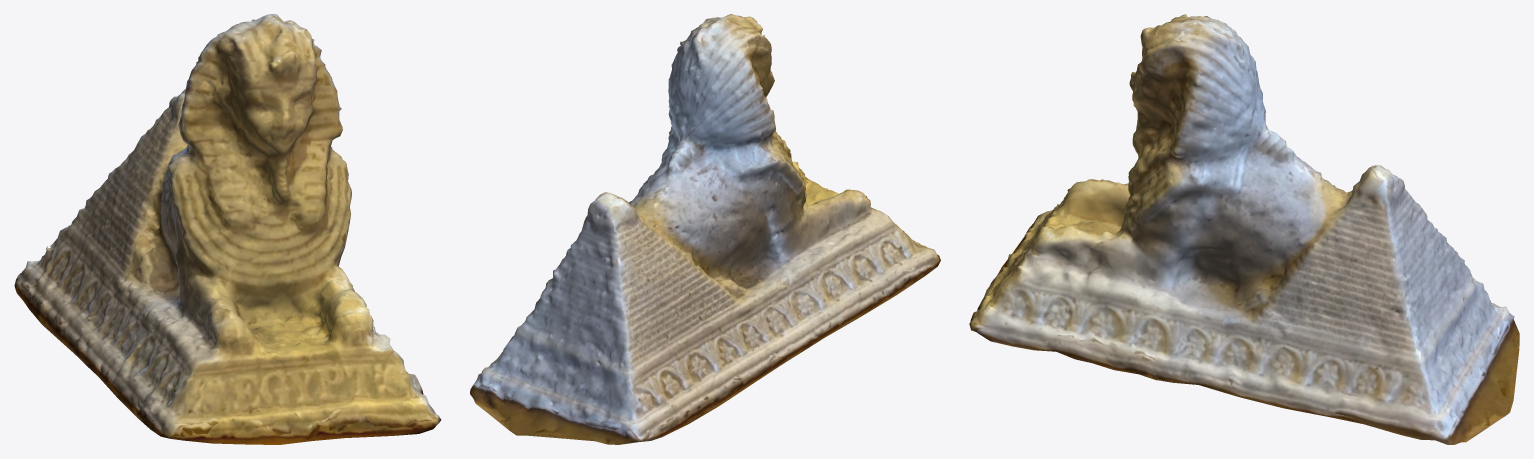
Rendered from baked_mesh.obj.
3 views of the same model, side by side, from view 1: azimuth 30°, elevation 25°; view 2: azimuth 150°, elevation 25°; view 3: azimuth 270°, elevation 25° (orthographic). The views are drawn at different scales.
Parts seen in each view (by area): view 1: g0; view 2: g0; view 3: g0.
Part boxes in pixels (left/top/right/bottom): g0: left=14, top=14, right=441, bottom=444; g0: left=470, top=14, right=940, bottom=444; g0: left=969, top=14, right=1519, bottom=444.
Size of the model in its own units: 0.4258 by 0.4574 by 0.6364.
Materials: 1 (1 with a texture image).
